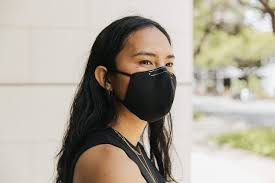FaceMask: (123, 67, 177, 122)
